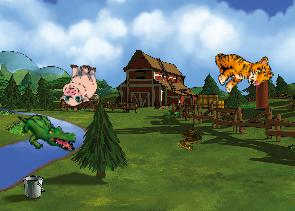crocodile: (16, 113, 77, 152)
pig: (59, 62, 100, 107)
tiger: (209, 38, 275, 99)
